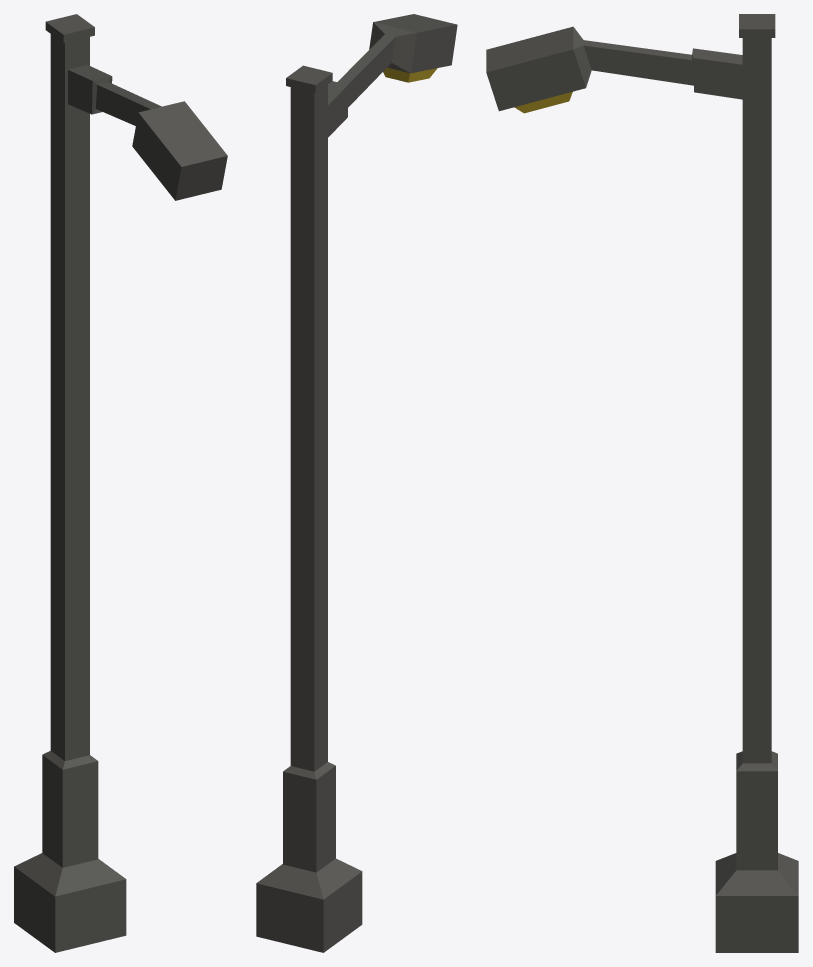
File: Light.fbx
3 views of the same model, side by side, from view 1: azimuth 30°, elevation 25°; view 2: azimuth 150°, elevation 25°; view 3: azimuth 270°, elevation 25° (orthographic). The views are drawn at different scales.
Parts seen in each view (by area): view 1: Light; view 2: Light; view 3: Light.
Boxes of the visible parts, box(x1,y1,x2,y2) form: Light: box(14, 14, 227, 952); Light: box(256, 14, 457, 952); Light: box(486, 14, 798, 952).
Size of the model in its own units: 0.7466 by 9.07 by 2.81.
Materials: 1 (1 with a texture image).
